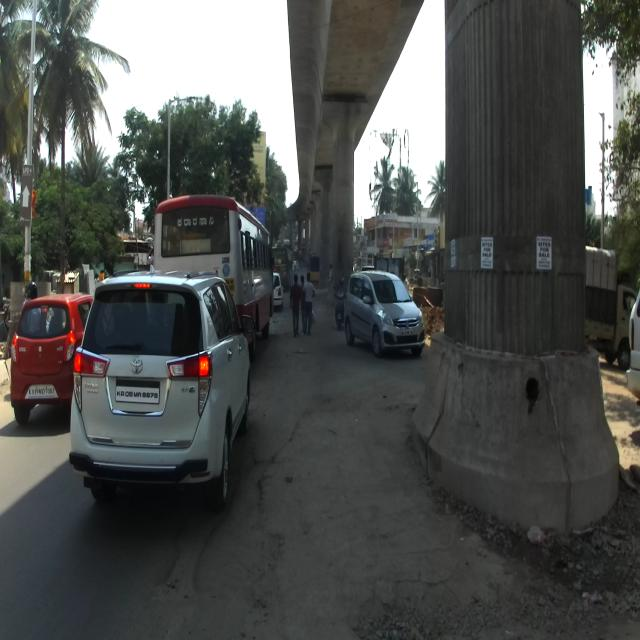car ahead at: (64, 271, 255, 506), (336, 266, 429, 366)
